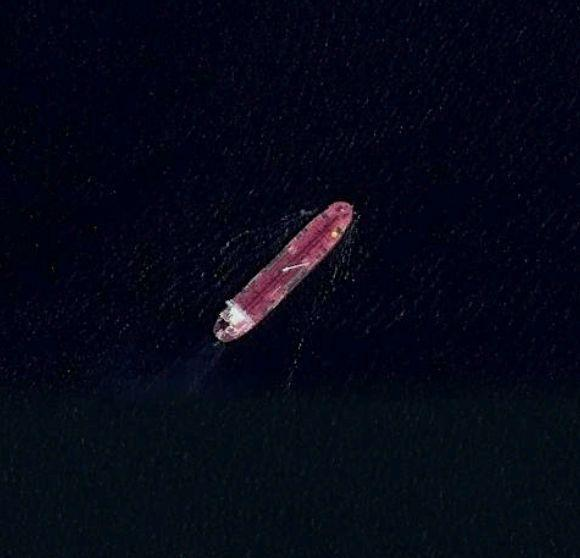Boat: (198, 188, 372, 355)
